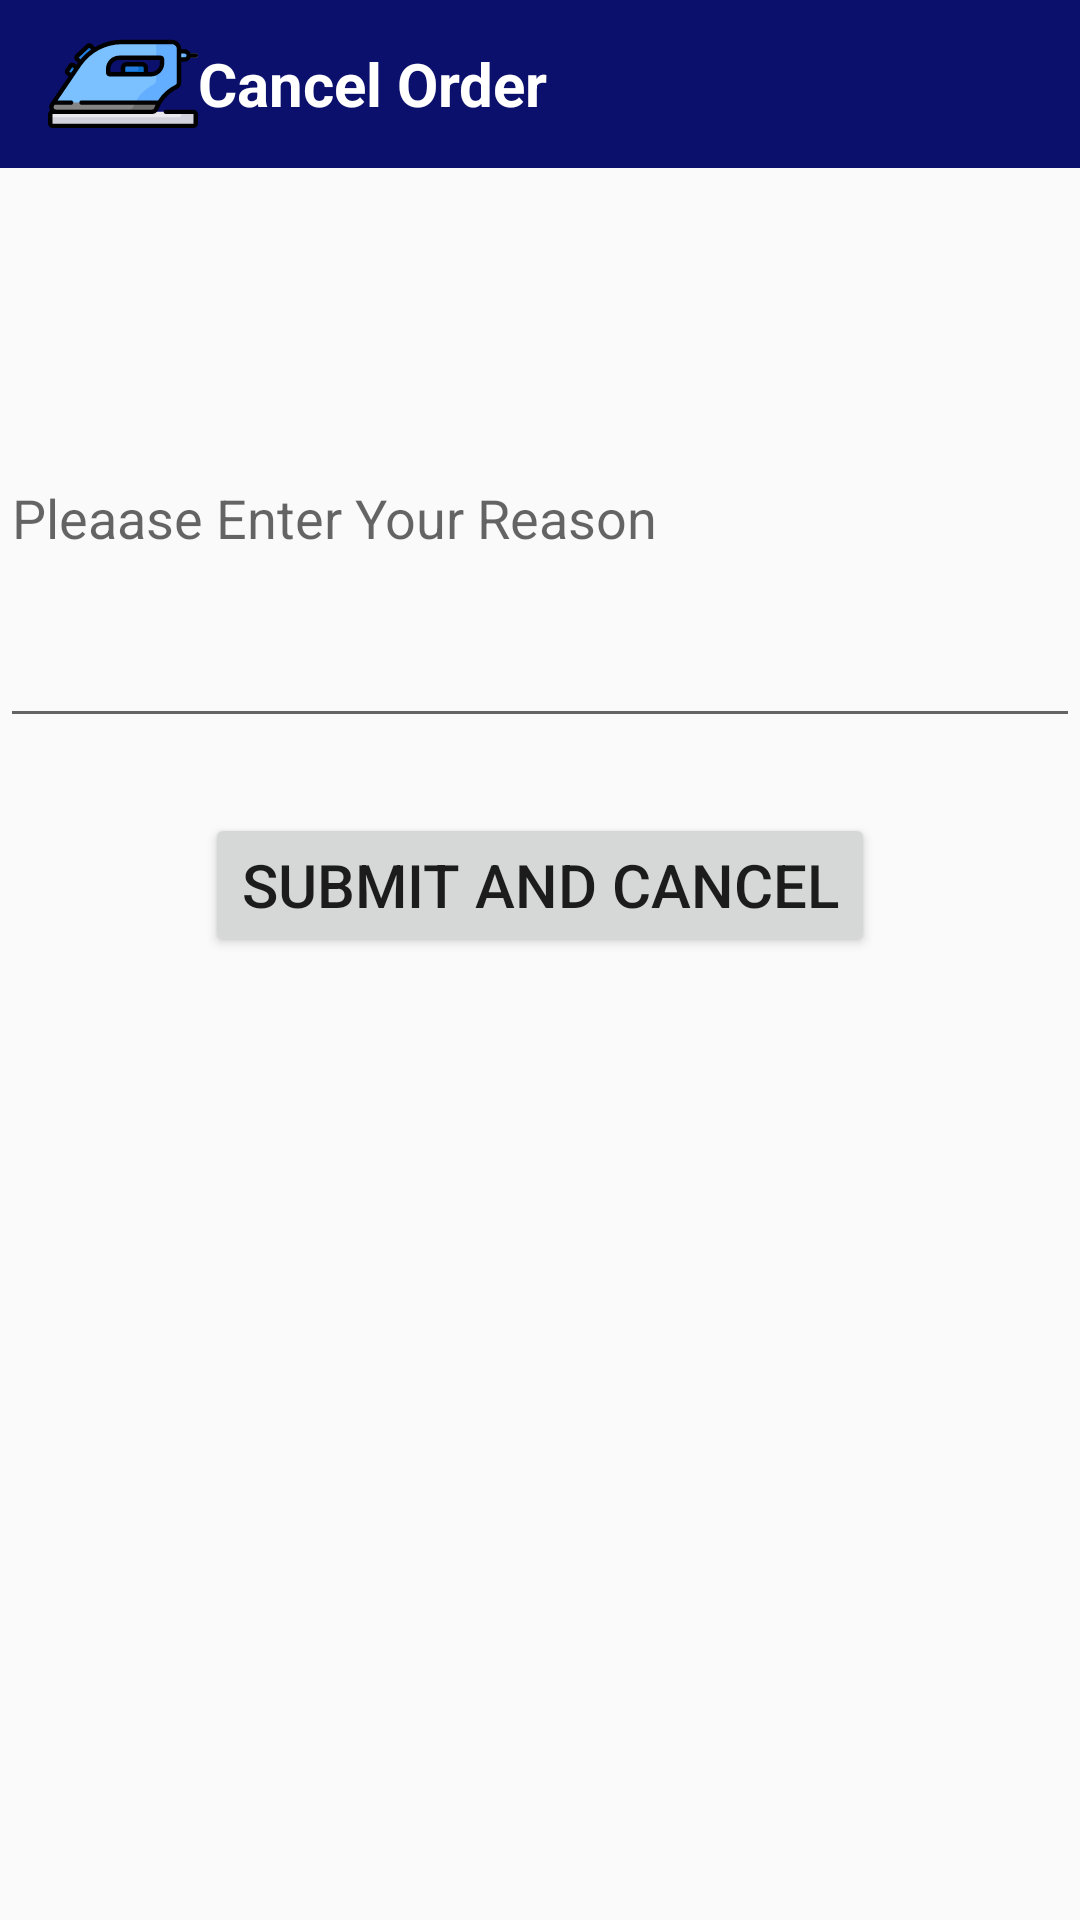

Locate icon controls on the screen. Image size 1080px x 1920px, boxes as (x1, y1, x2, y2).
iron: (48, 39, 198, 128)
